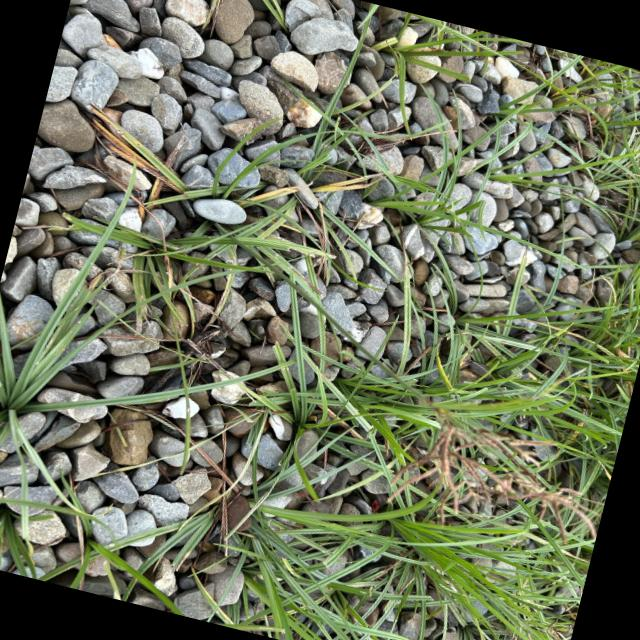cyperus: (416, 389, 622, 561)
